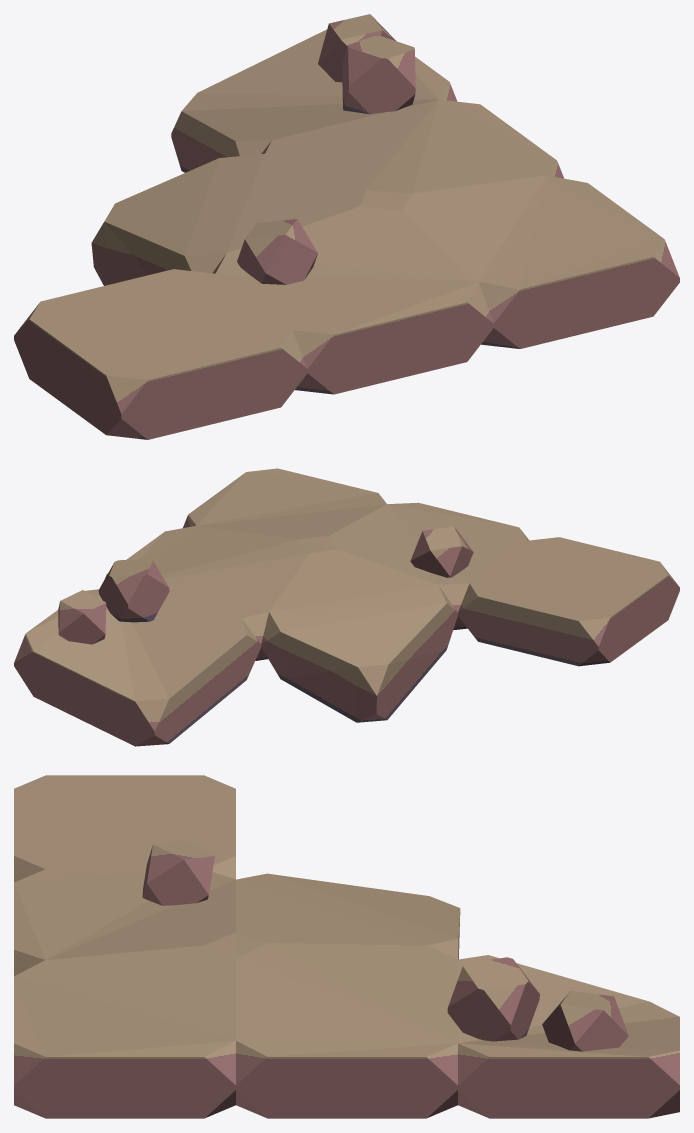
The model's file is Tiles 4.002.fbx.
3 renders of one model, top to bottom at view 1: azimuth 30°, elevation 25°; view 2: azimuth 150°, elevation 25°; view 3: azimuth 270°, elevation 25°, orthographic. The views are drawn at different scales.
Visible parts, largest first — view 1: Tiles 4.002; view 2: Tiles 4.002; view 3: Tiles 4.002.
Part boxes in pixels (<box>): Tiles 4.002: <box>14,14,679,439</box>; Tiles 4.002: <box>14,468,679,746</box>; Tiles 4.002: <box>14,775,679,1118</box>.
Size of the model in its own units: 495 by 132 by 495.
